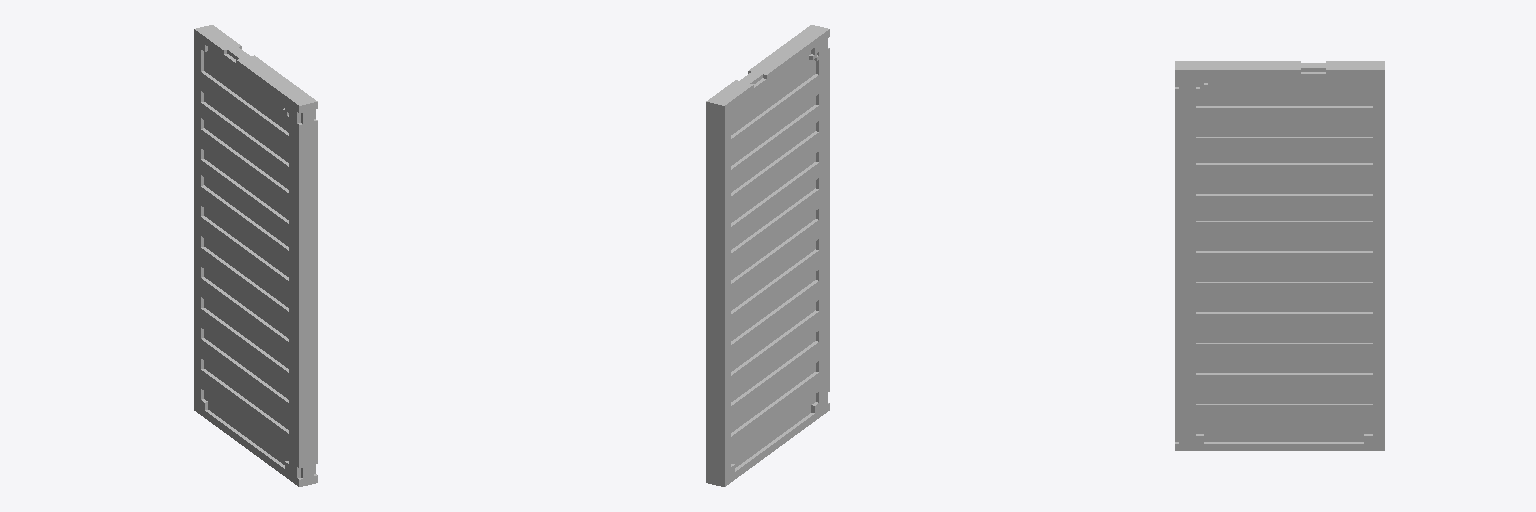
The model's file is Wall_Container_Blue-1.obj.
3 views of the same model, side by side, from view 1: azimuth 30°, elevation 25°; view 2: azimuth 150°, elevation 25°; view 3: azimuth 270°, elevation 25° (orthographic).
Visible parts, largest first — view 1: Wall_Container_Blue-1; view 2: Wall_Container_Blue-1; view 3: Wall_Container_Blue-1.
Part boxes in pixels (bbox=[...]): Wall_Container_Blue-1: bbox=[194, 25, 317, 486]; Wall_Container_Blue-1: bbox=[706, 25, 829, 486]; Wall_Container_Blue-1: bbox=[1175, 61, 1384, 450].
Bounding box in the file's own units: 0.1 × 2 × 1.